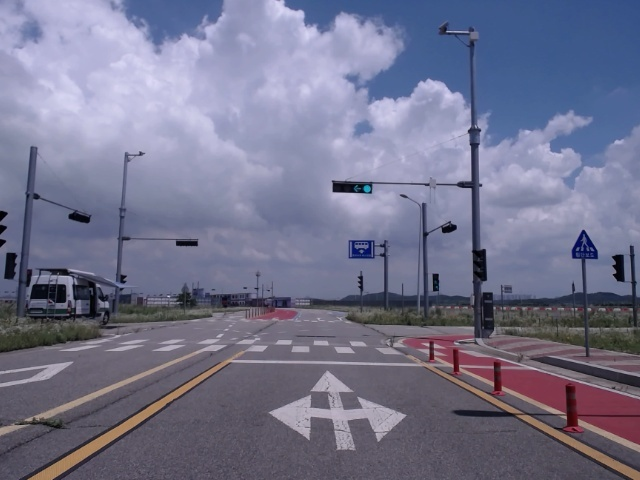all_green_4: (331, 178, 372, 191)
